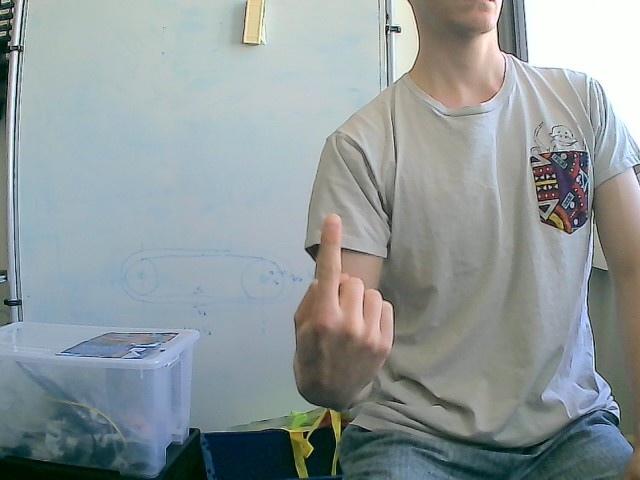up: (291, 212, 396, 412)
